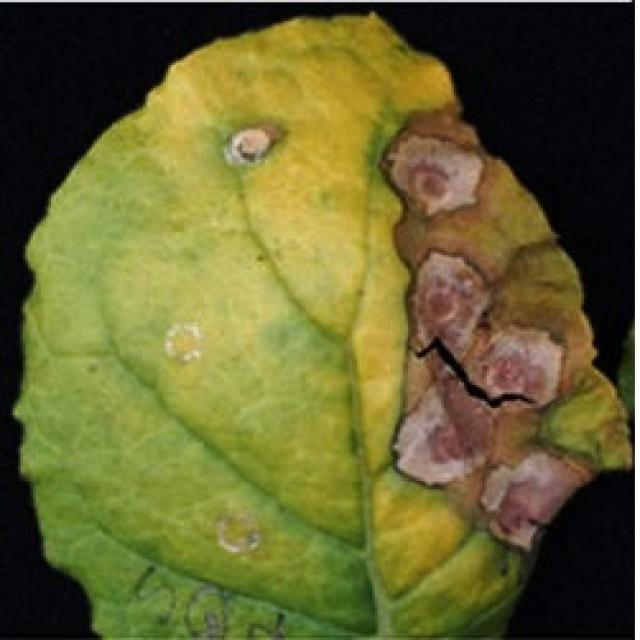Fusarium Wilt: (384, 84, 628, 552)
